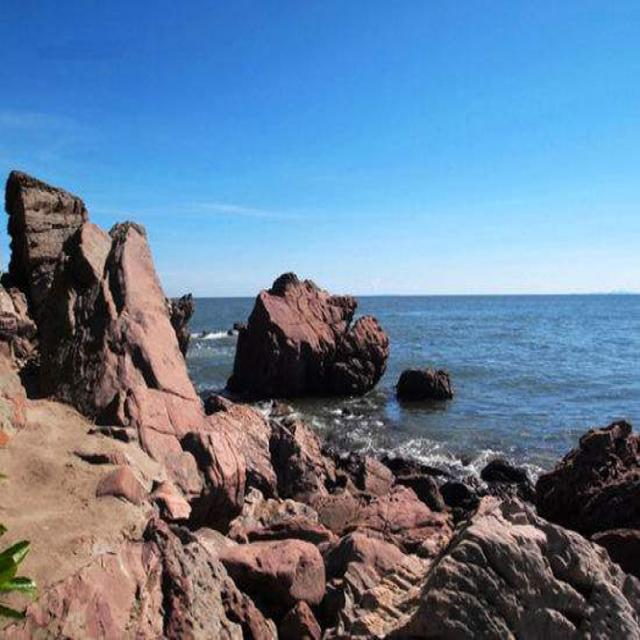reef: (201, 239, 635, 608)
